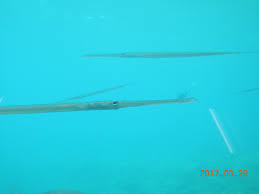sayori: (1, 99, 200, 113), (83, 47, 246, 59)
